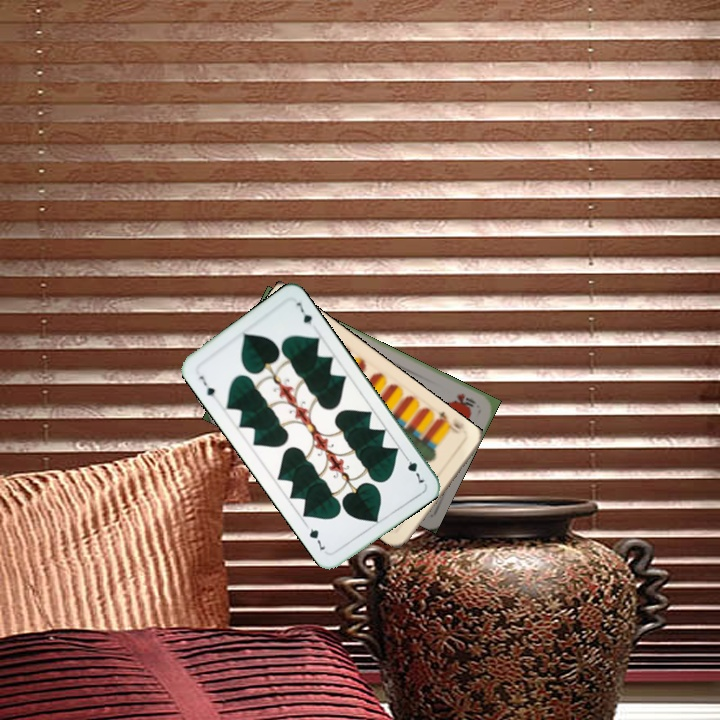E10: (431, 407, 469, 436)
G7: (400, 450, 427, 487), (195, 371, 217, 399)
HO: (451, 389, 479, 411)
